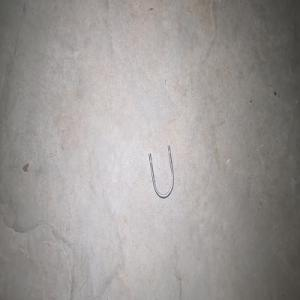ClampPart: (148, 144, 174, 198)
